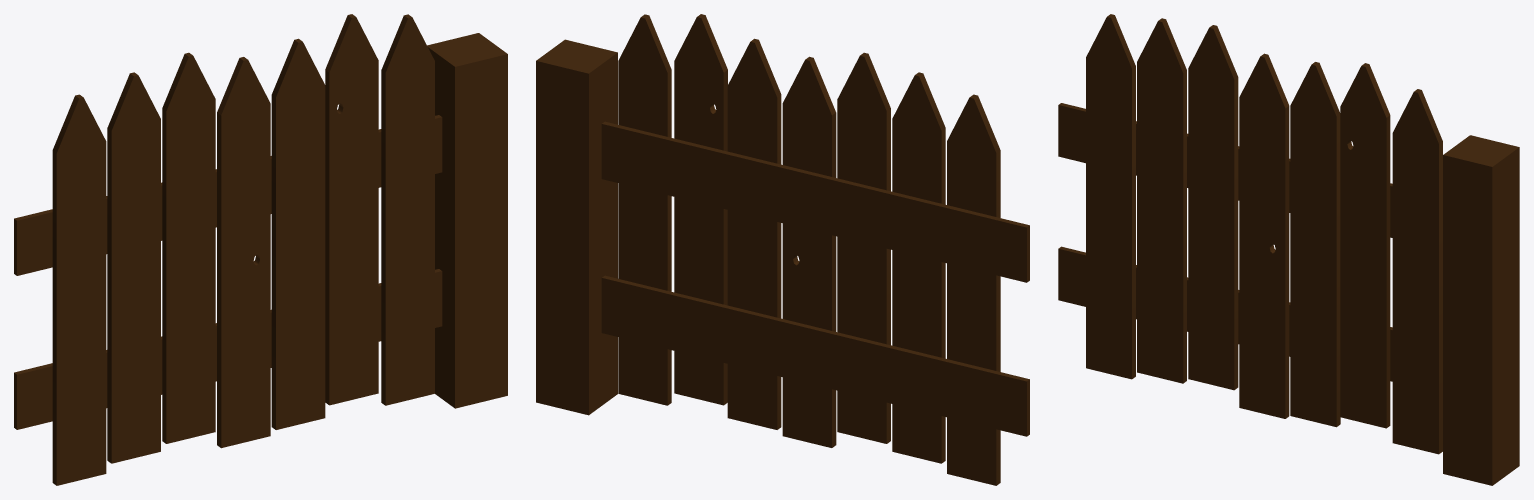
The model's file is Fence_RightEndPiece.fbx.
The picture shows the model from 3 angles, left to right: view 1: azimuth 30°, elevation 25°; view 2: azimuth 150°, elevation 25°; view 3: azimuth 330°, elevation 25°; orthographic projection. The views are drawn at different scales.
Parts seen in each view (by area): view 1: Box086; view 2: Box086; view 3: Box086.
Boxes of the visible parts, x1=… form: Box086: x1=14, y1=14, x2=507, y2=485; Box086: x1=536, y1=14, x2=1029, y2=485; Box086: x1=1058, y1=14, x2=1519, y2=485.
Bounding box in the file's own units: 117 × 95.99 × 12.35.
